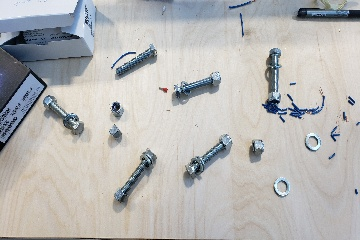Bolt: (110, 40, 160, 81)
FalseAssembly: (167, 65, 227, 100), (265, 43, 285, 105)
FinishedAssembly: (181, 129, 236, 182), (113, 147, 158, 205), (41, 96, 88, 137)
Nut: (105, 123, 124, 143), (108, 99, 125, 118)
Washer: (270, 176, 294, 201), (303, 133, 323, 152)
